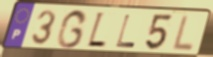3: (30, 9, 58, 47)
5: (144, 13, 175, 52)
G: (55, 9, 89, 50)
L: (170, 14, 196, 53), (85, 10, 108, 50), (114, 14, 137, 49)
